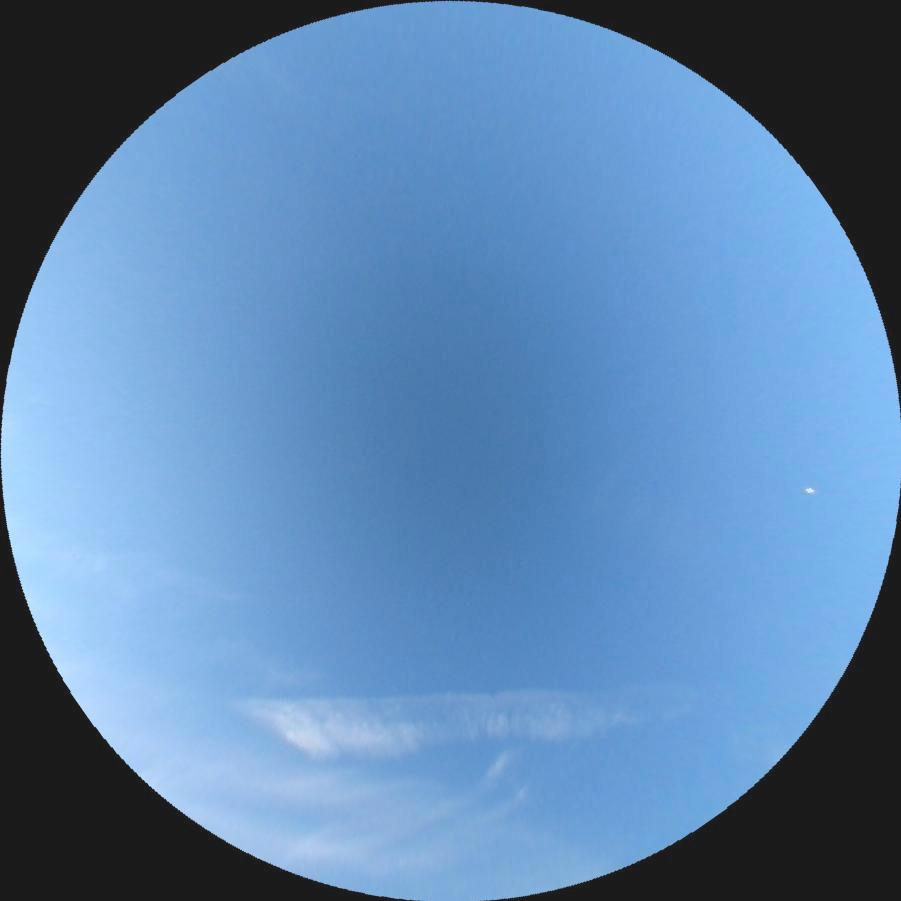contrail veryold: (227, 681, 701, 762)
